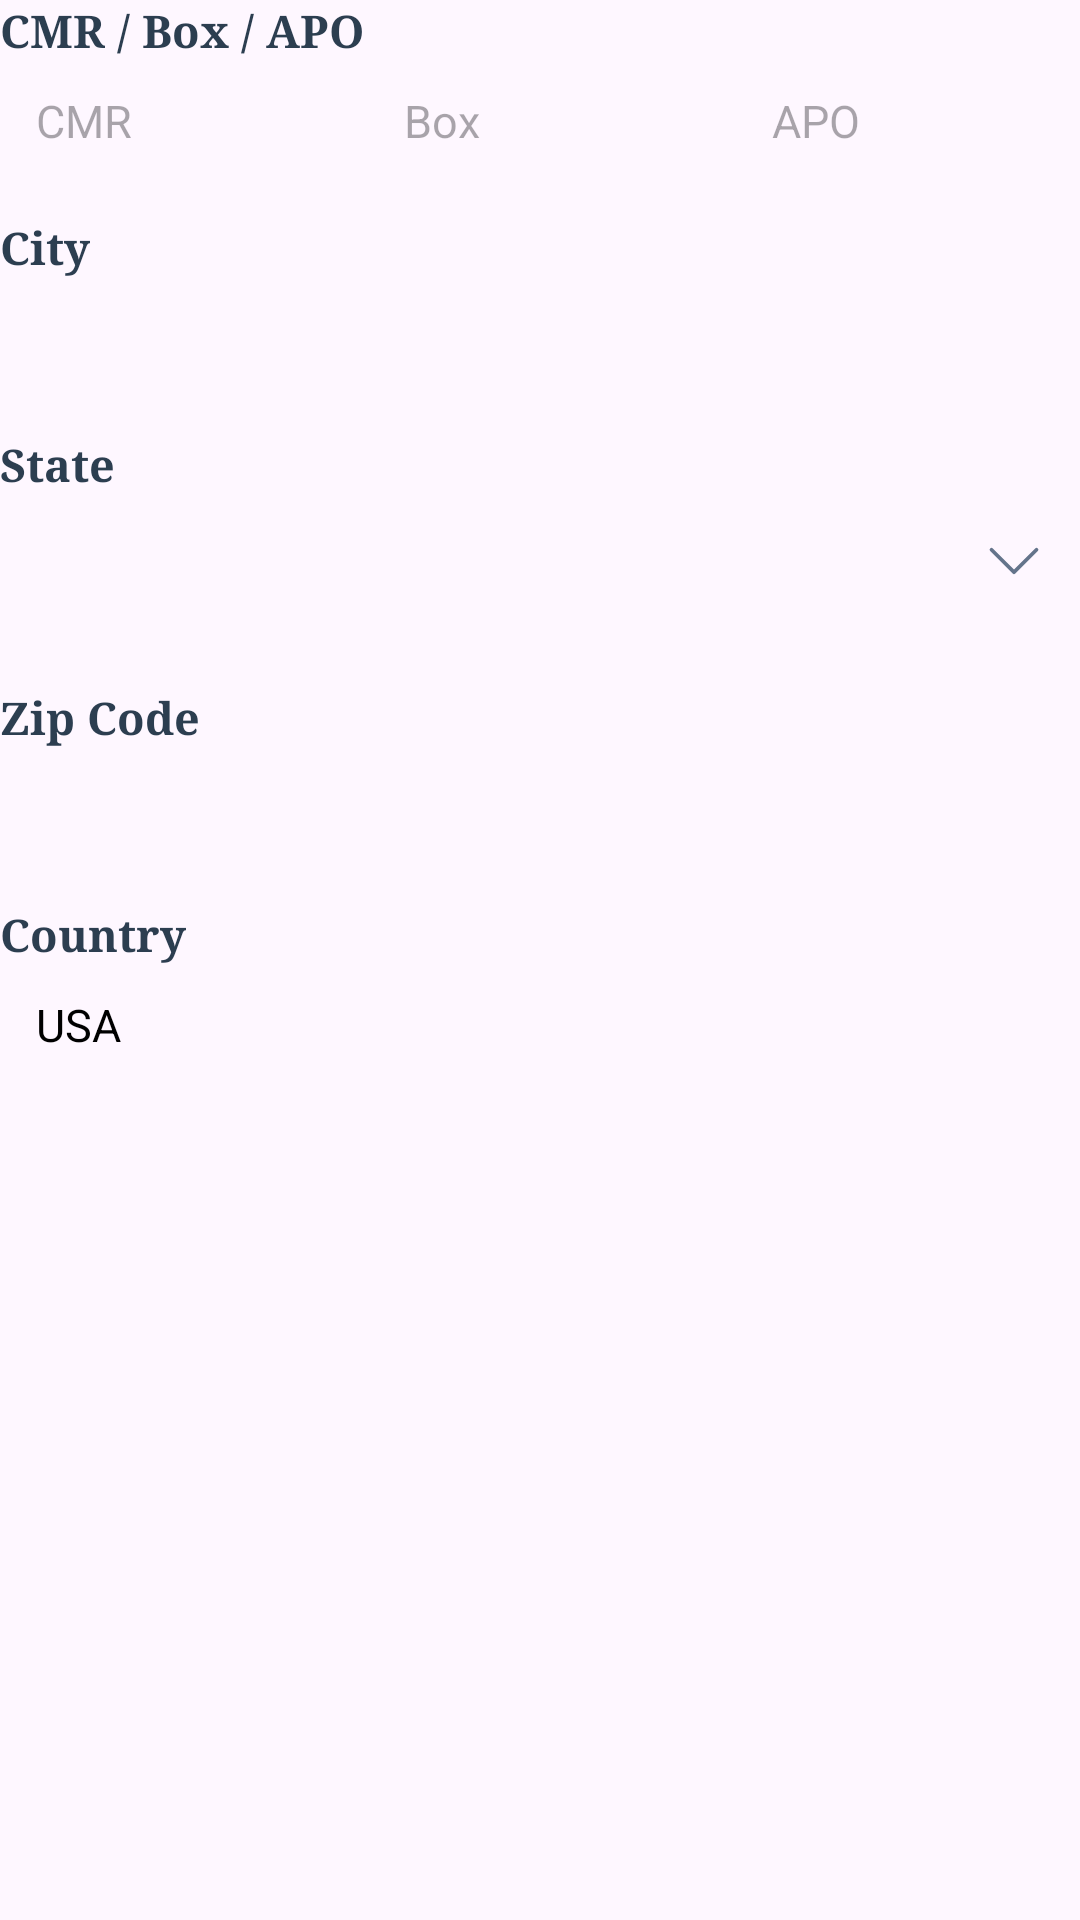

Screen size 1080 x 1920. Icon name, then its center in pixels as (x=x, y=y):
abajo: (x=1014, y=560)
